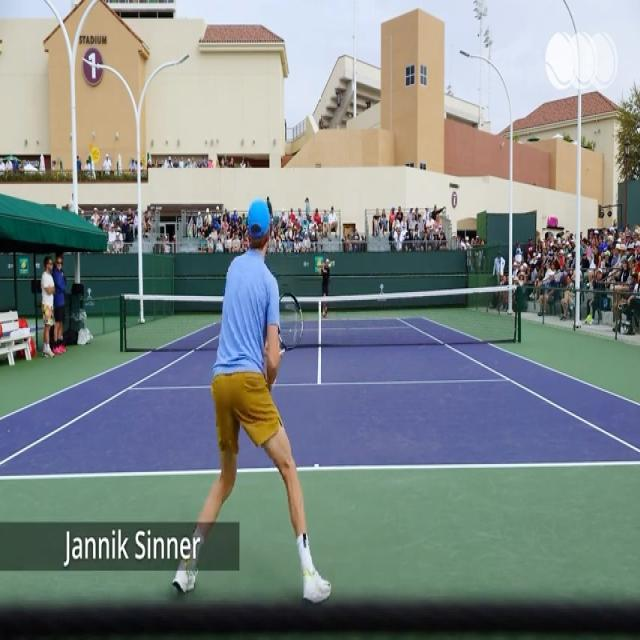ready-position: (172, 190, 336, 596)
